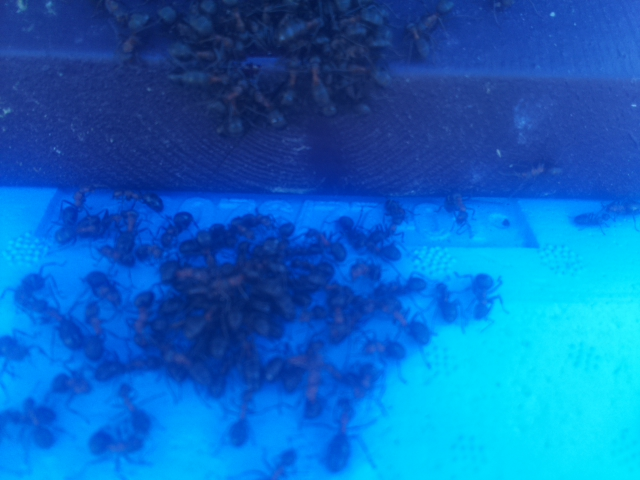ant: (97, 0, 151, 58)
